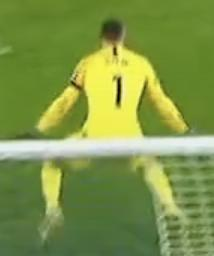goalkeeper: (12, 11, 209, 243)
